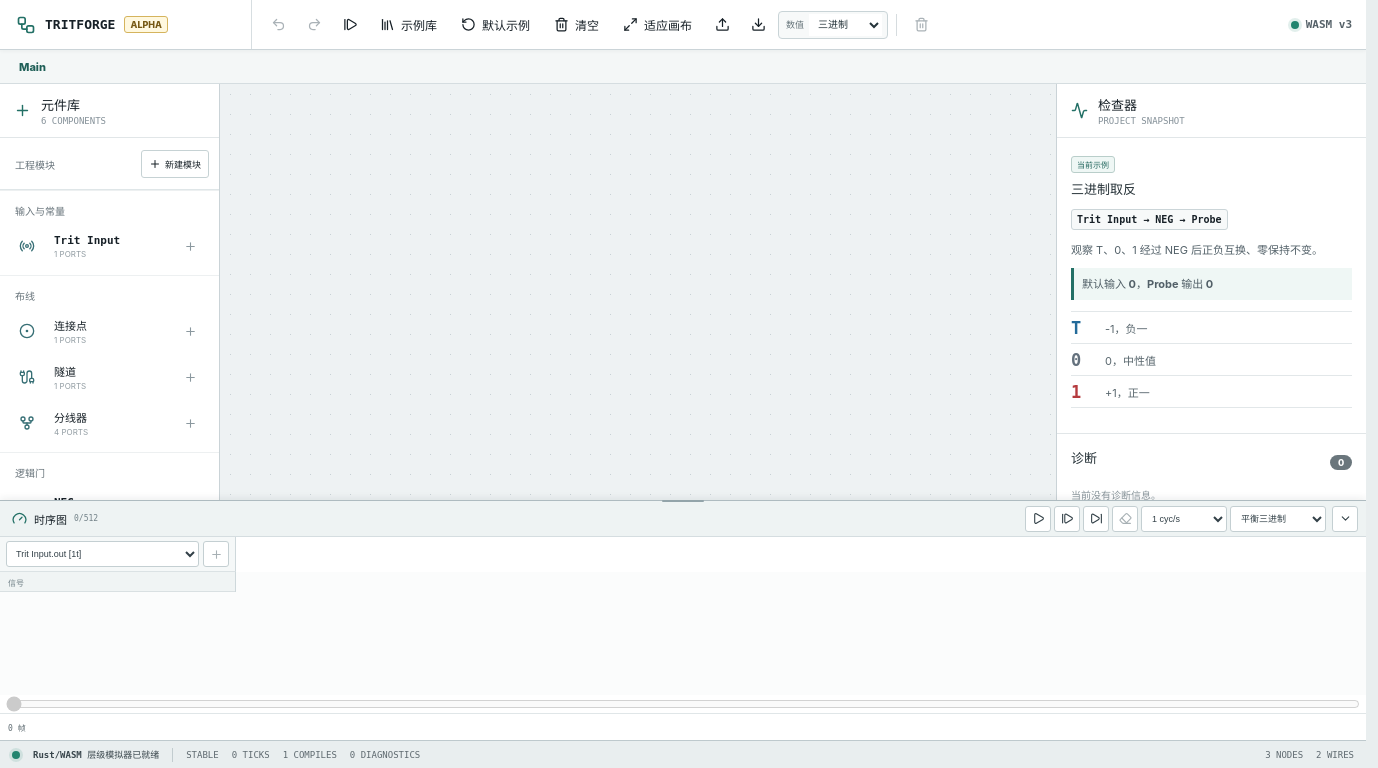
Scenario: App › keeps the previous circuit visible when runtime navigation fails
Click the button "新建模块" at (175, 164), box [141, 150, 209, 178]
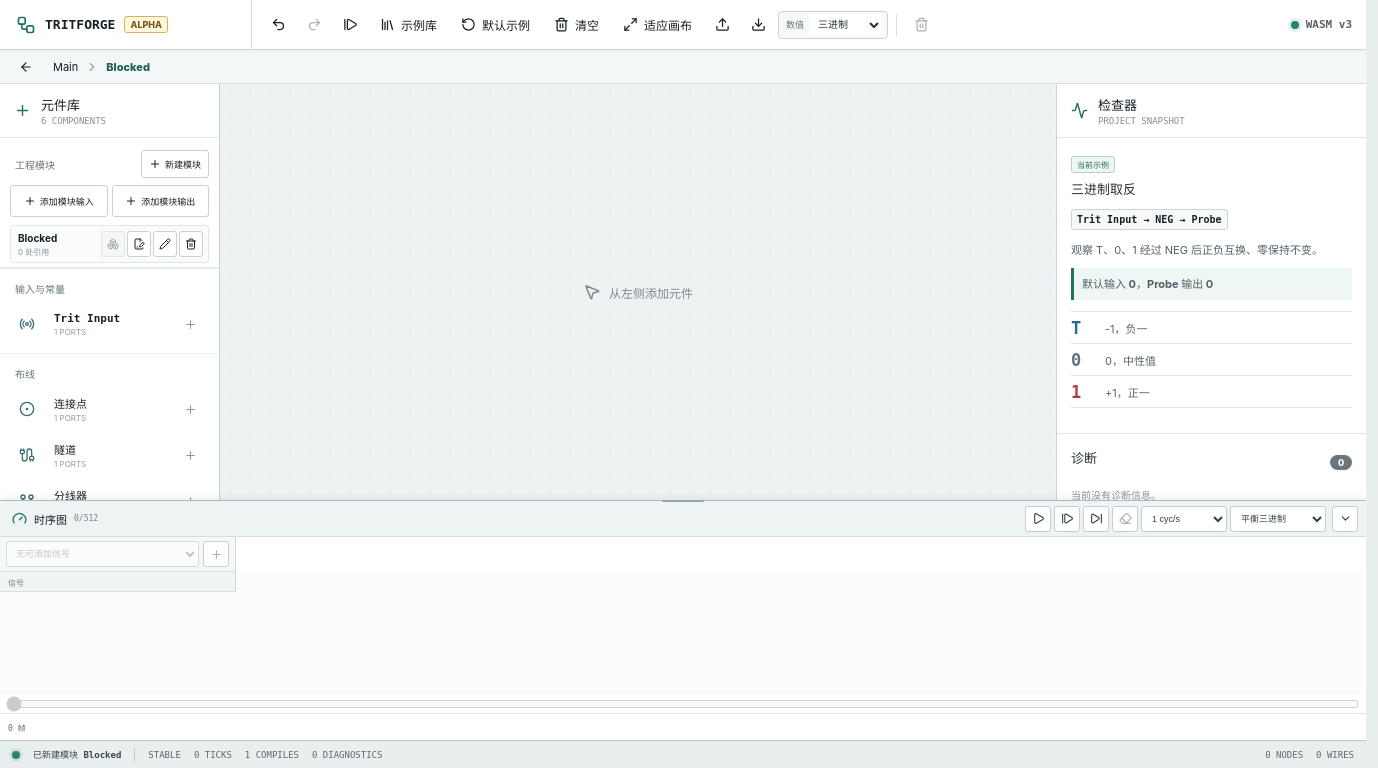
Click the button named "返回上级" at (26, 66), box [12, 54, 39, 79]
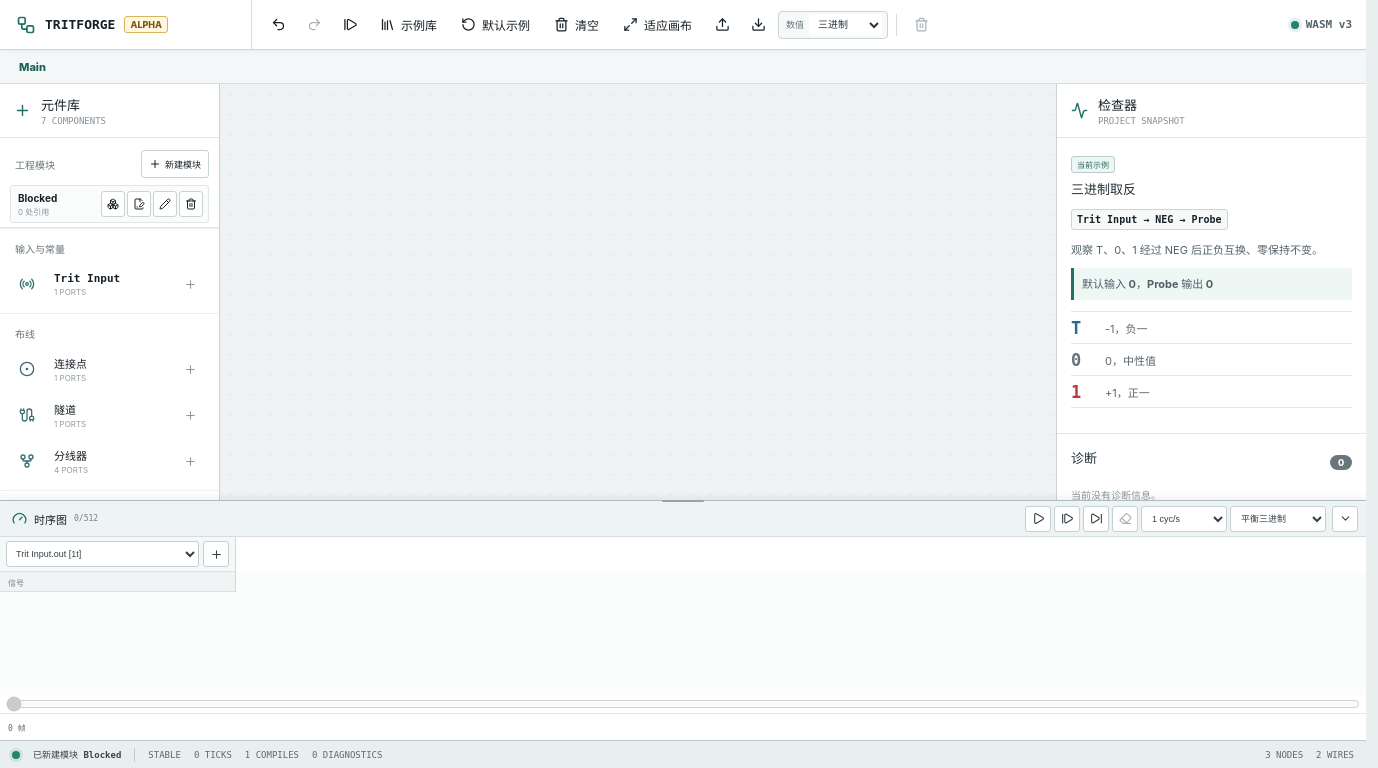
Click the button named "编辑 Blocked" at (165, 204), box [153, 191, 177, 217]
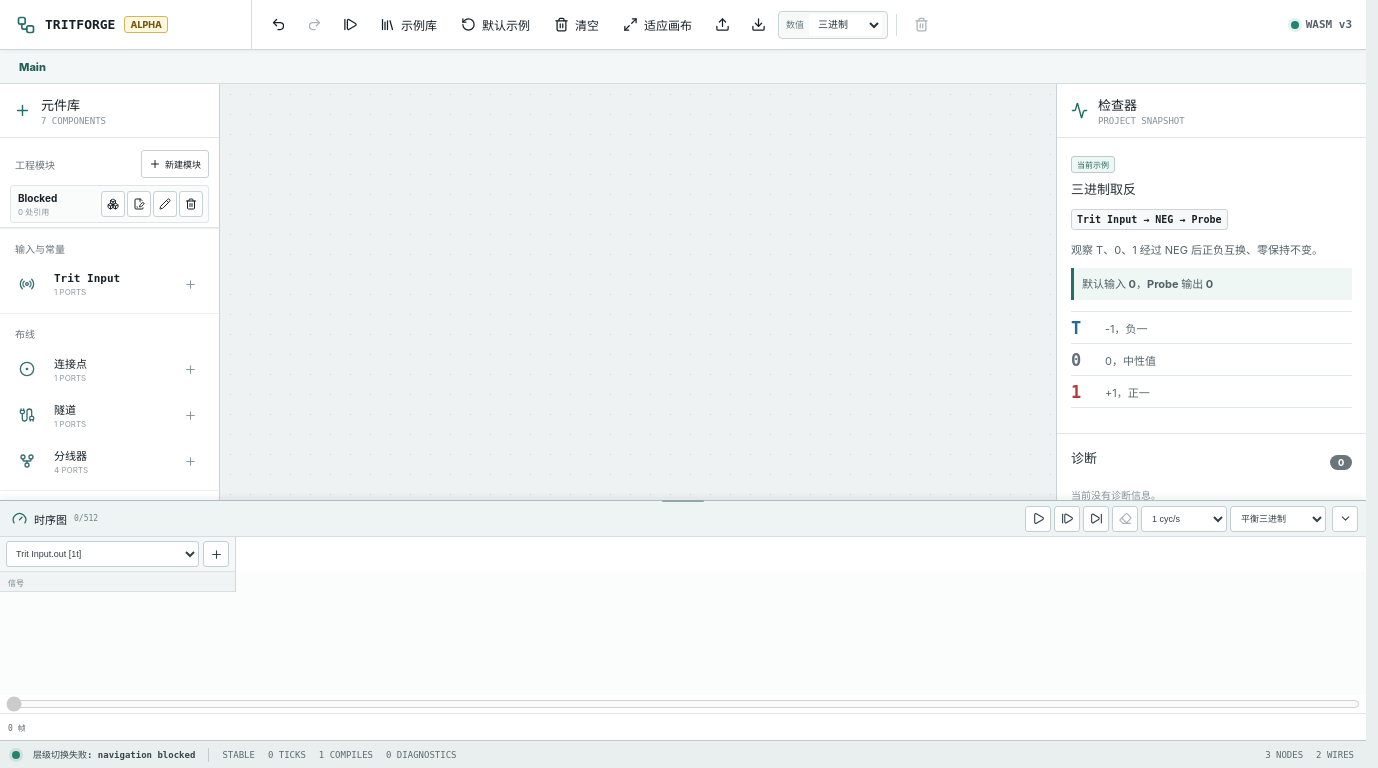
Check: the navigation bar named "层级导航" does not show "Blocked", box [0, 50, 1366, 84]
Check: the text "层级切换失败: navigation blocked" is shown, box [33, 748, 195, 761]
